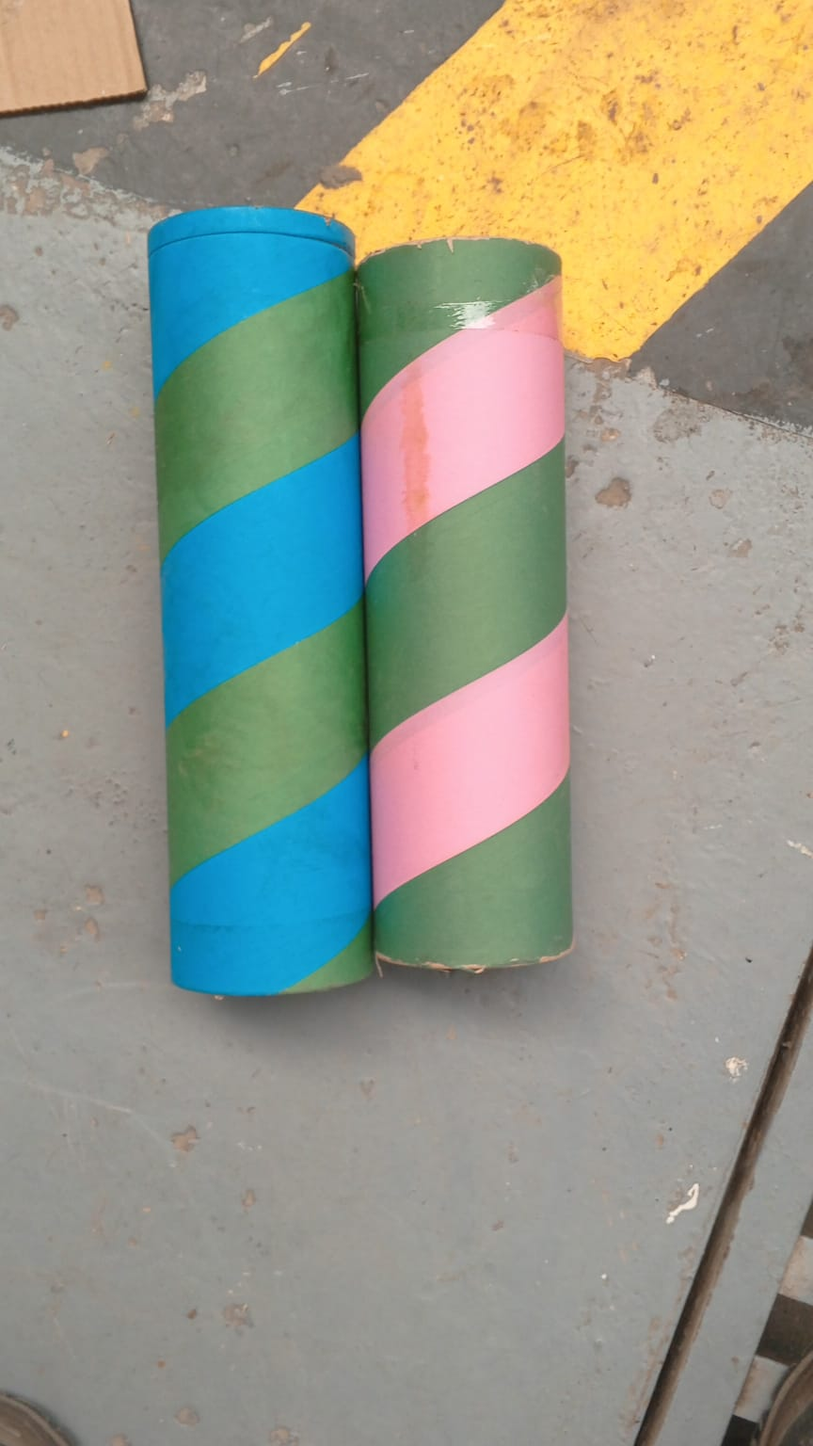Ordinario: (149, 202, 572, 994)
